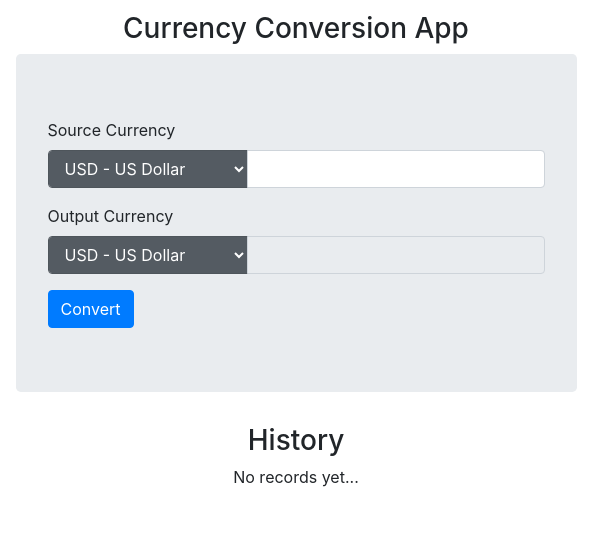
Test: Cypress › Error when source amount is invalid amount
The width and height of the screenshot is (594, 544).
Type "20abc" into the field with test id "sourceAmount" at (396, 169), box [247,150,545,188]
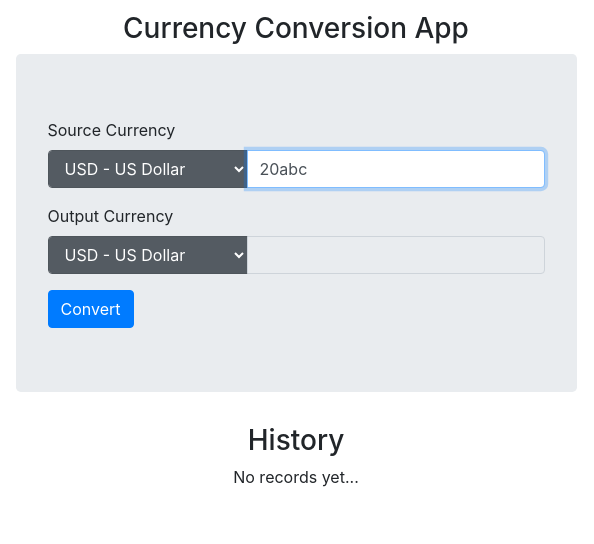
Click the button with test id "convertBtn" at (91, 309), box [48,290,134,328]
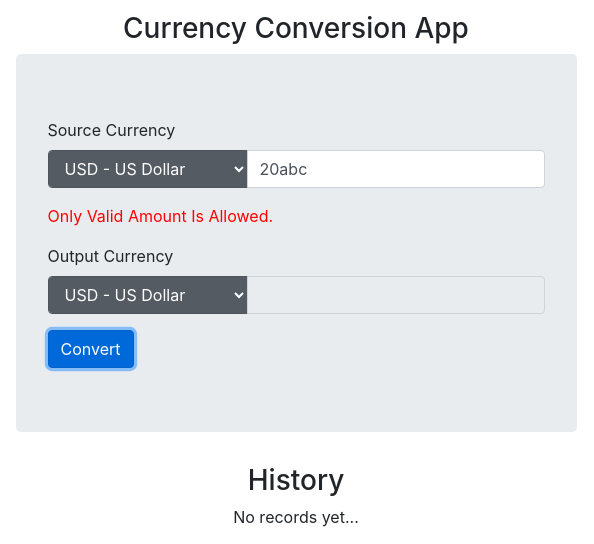
expect the text with test id "sourceAmountErrorMsg" reads "Only Valid Amount Is Allowed.": met, box [48,206,274,226]
